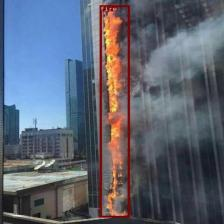fire: (100, 5, 129, 217)
